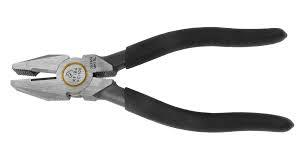pliers: (8, 25, 293, 132)
